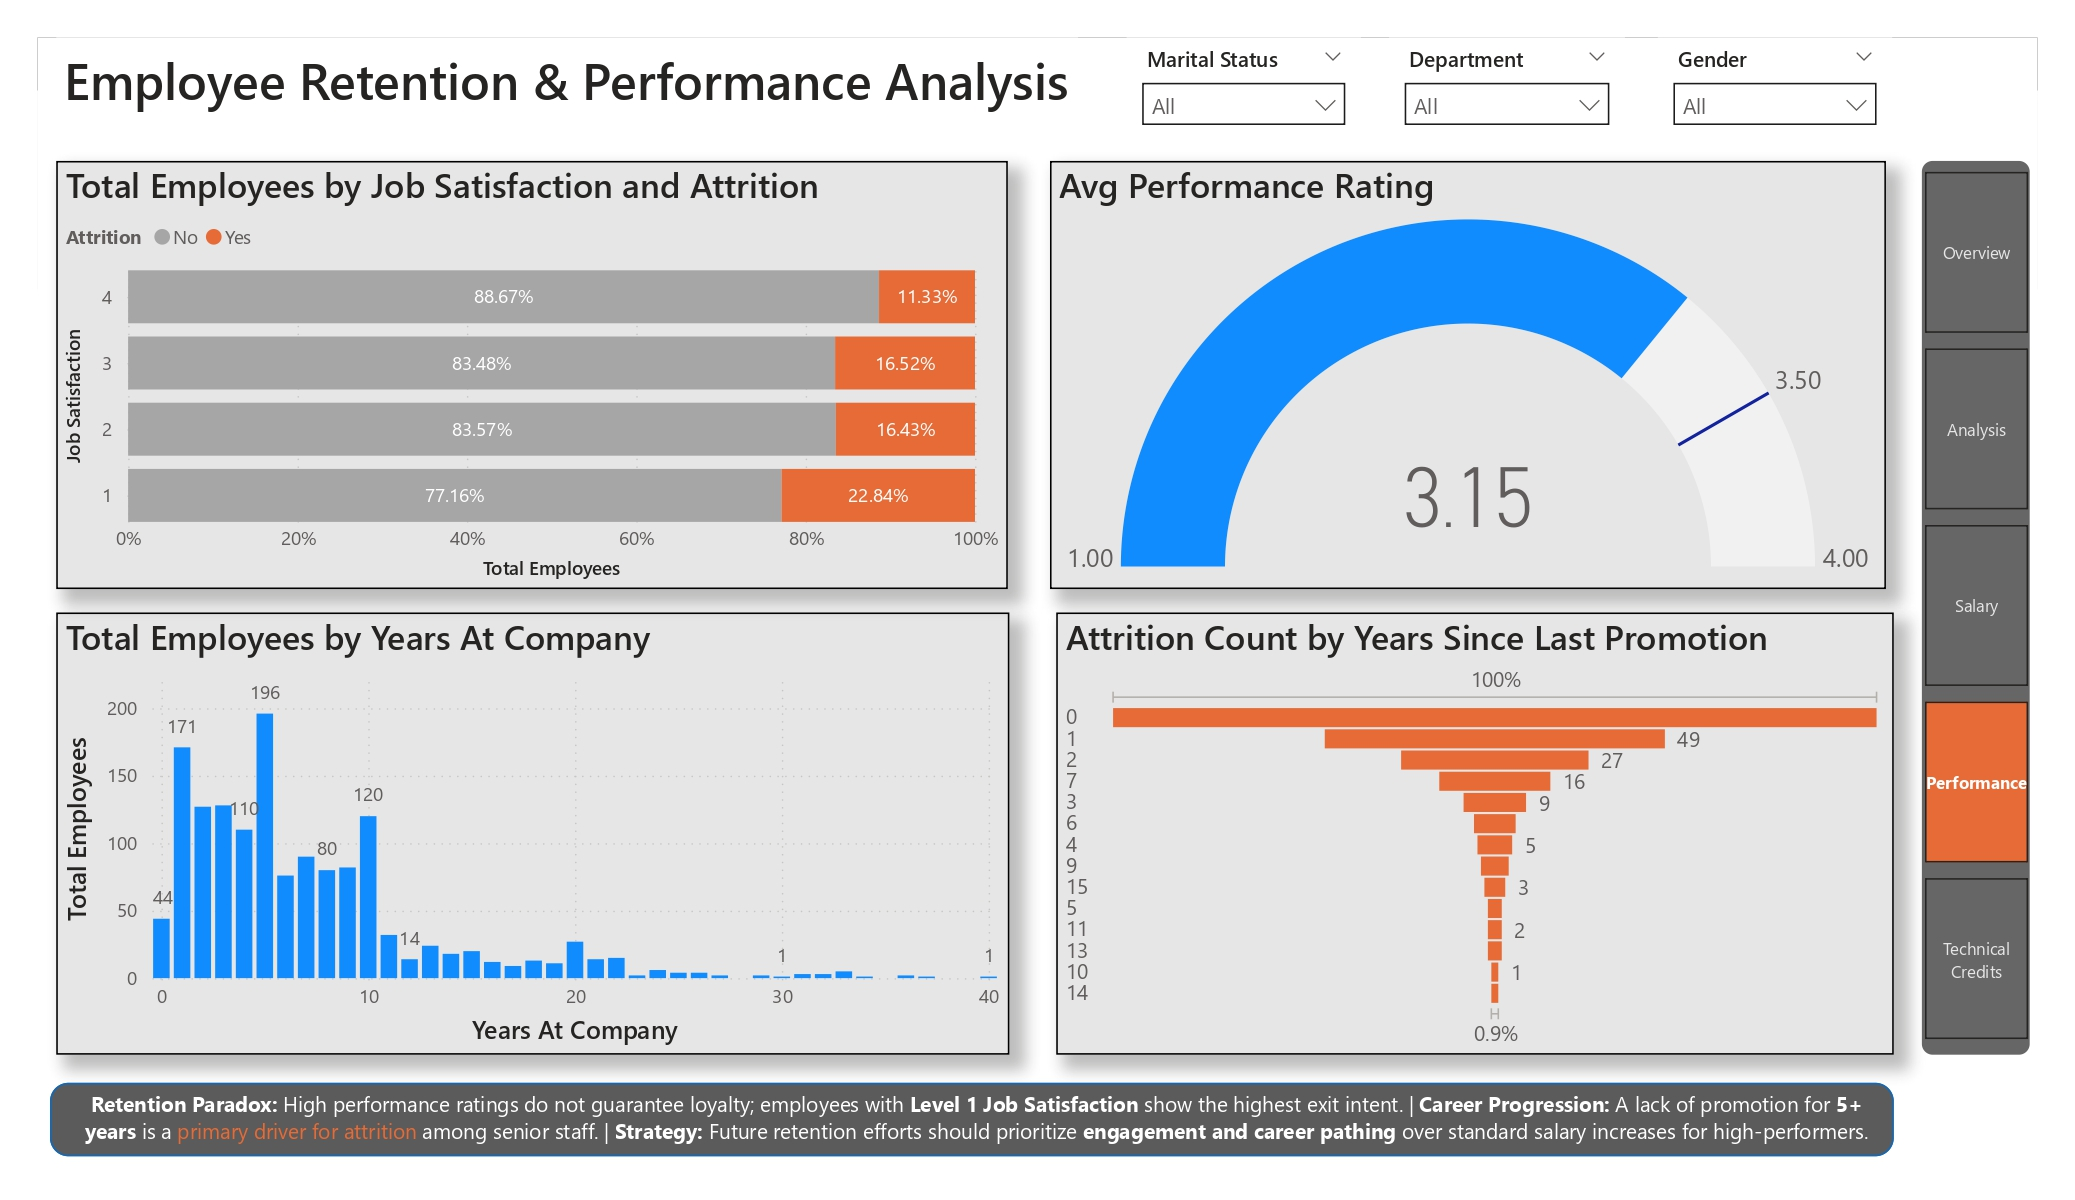

This screenshot's page, from the dashboard's own definition file:
{"tool":"powerbi","page":{"name":"Performance","canvas":[1280,720],"ordinal":3},"visuals":[{"type":"slicer","fields":{"Values":["HR.Department"]},"box":[865.4,0,150.2,61.6],"z":0},{"type":"slicer","fields":{"Values":["HR.Gender"]},"box":[1036.6,0,150.2,61.6],"z":1000},{"type":"slicer","fields":{"Values":["HR.Marital Status"]},"box":[697.4,0,149.8,61.3],"z":2000},{"type":"textbox","box":[11.7,0,654.6,61.3],"z":3000},{"type":"clusteredColumnChart","fields":{"Category":["HR.Years At Company"],"Y":["HR.Total Employees"]},"box":[11.7,367.7,609.8,283],"z":4000},{"type":"gauge","fields":{"Y":["HR.Avg Performance Rating"]},"box":[647.8,78.8,535,274.3],"z":5000},{"type":"funnel","fields":{"Category":["HR.Years Since Last Promotion"],"Y":["HR.Attrition Count"]},"box":[651.7,367.7,535.9,283],"z":6000},{"type":"hundredPercentStackedBarChart","fields":{"Category":["HR.Job Satisfaction"],"Series":["HR.Attrition"],"Y":["HR.Total Employees"]},"box":[11.7,78.8,608.9,274.3],"z":7000},{"type":"shape","box":[1206.1,78.8,69.1,571.9],"z":8000},{"type":"pageNavigator","box":[1208,85.6,66.1,557.3],"z":9000},{"type":"shape","box":[7.8,669.2,1179.8,46.7],"z":10000},{"type":"textbox","box":[13.6,669.2,1174,46.7],"z":11000}]}

Visuals, with their boxes in screenshot pixels (x1, y1, x2, y2):
slicer - HR.Department: 1390, 38, 1624, 134
slicer - HR.Gender: 1657, 38, 1892, 134
slicer - HR.Marital Status: 1127, 38, 1361, 133
textbox: 56, 38, 1079, 133
clusteredColumnChart - HR.Years At Company x HR.Total Employees: 56, 612, 1009, 1054
gauge - HR.Avg Performance Rating: 1050, 161, 1886, 589
funnel - HR.Years Since Last Promotion x HR.Attrition Count: 1056, 612, 1893, 1054
hundredPercentStackedBarChart - HR.Job Satisfaction x HR.Attrition: 56, 161, 1007, 589
shape: 1922, 161, 2030, 1054
pageNavigator: 1925, 171, 2028, 1042
shape: 50, 1083, 1893, 1156
textbox: 59, 1083, 1893, 1156
